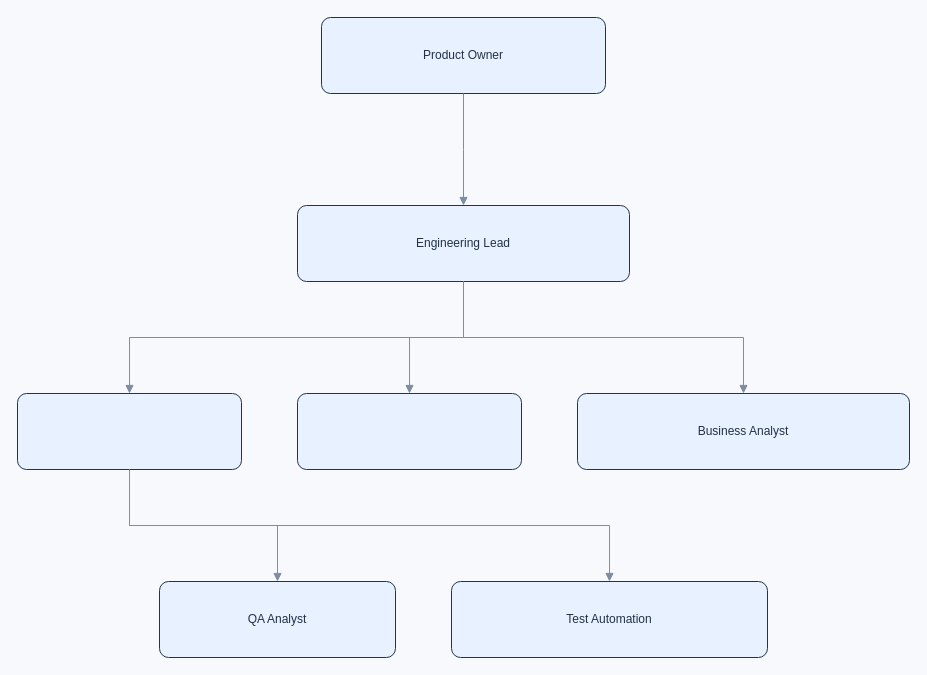
The diagram is 927 pixels wide and 675 high, and some of its shapes have lost their labels. Here are the shapes that lost their labels. From the top down, the box of each, then its label:
(16, 392, 242, 470): QA Lead
(296, 392, 522, 470): Developer
